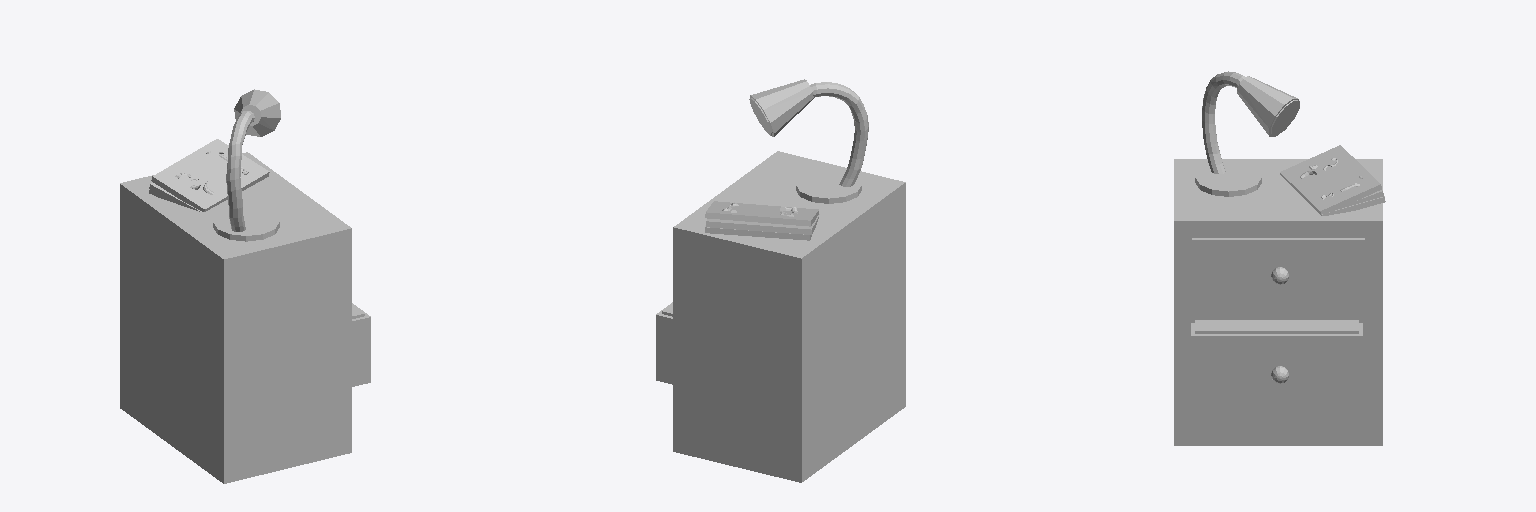
Rendered from SideTable.obj.
3 views of the same model, side by side, from view 1: azimuth 30°, elevation 25°; view 2: azimuth 150°, elevation 25°; view 3: azimuth 270°, elevation 25° (orthographic).
Parts seen in each view (by area): view 1: group[number redacted], group[number redacted], group[number redacted], group[number redacted], group[number redacted]; view 2: group[number redacted], group[number redacted], group[number redacted], group[number redacted], group[number redacted]; view 3: group[number redacted], group[number redacted], group[number redacted], group[number redacted], group[number redacted].
Part boxes in pixels (left/top/right/bottom): group[number redacted]: left=120, top=152, right=370, bottom=483; group[number redacted]: left=149, top=139, right=269, bottom=211; group[number redacted]: left=226, top=111, right=254, bottom=231; group[number redacted]: left=234, top=89, right=280, bottom=136; group[number redacted]: left=213, top=208, right=279, bottom=241; group[number redacted]: left=656, top=151, right=905, bottom=482; group[number redacted]: left=705, top=201, right=819, bottom=240; group[number redacted]: left=749, top=79, right=813, bottom=136; group[number redacted]: left=810, top=82, right=868, bottom=186; group[number redacted]: left=796, top=171, right=861, bottom=203; group[number redacted]: left=1174, top=159, right=1382, bottom=445; group[number redacted]: left=1280, top=145, right=1385, bottom=215; group[number redacted]: left=1237, top=76, right=1299, bottom=136; group[number redacted]: left=1195, top=164, right=1261, bottom=196; group[number redacted]: left=1202, top=71, right=1244, bottom=173.
Bounding box in the file's own units: 0.6495 × 1.23 × 0.6995.